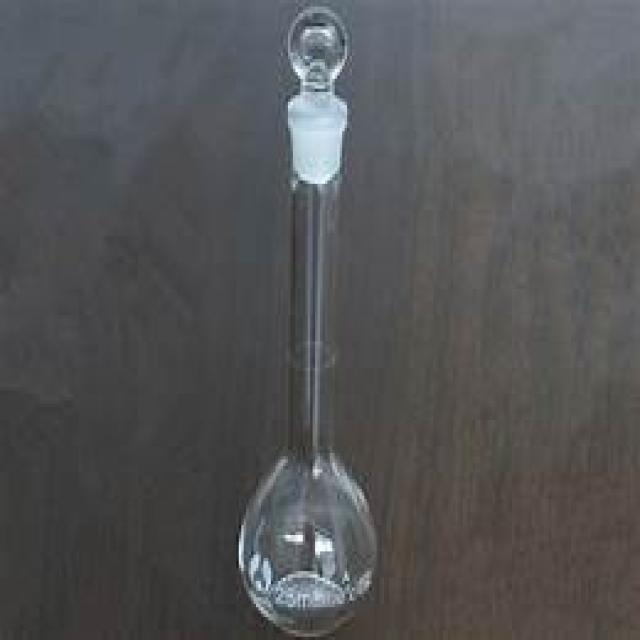Volumetric flask: (190, 12, 384, 637)
